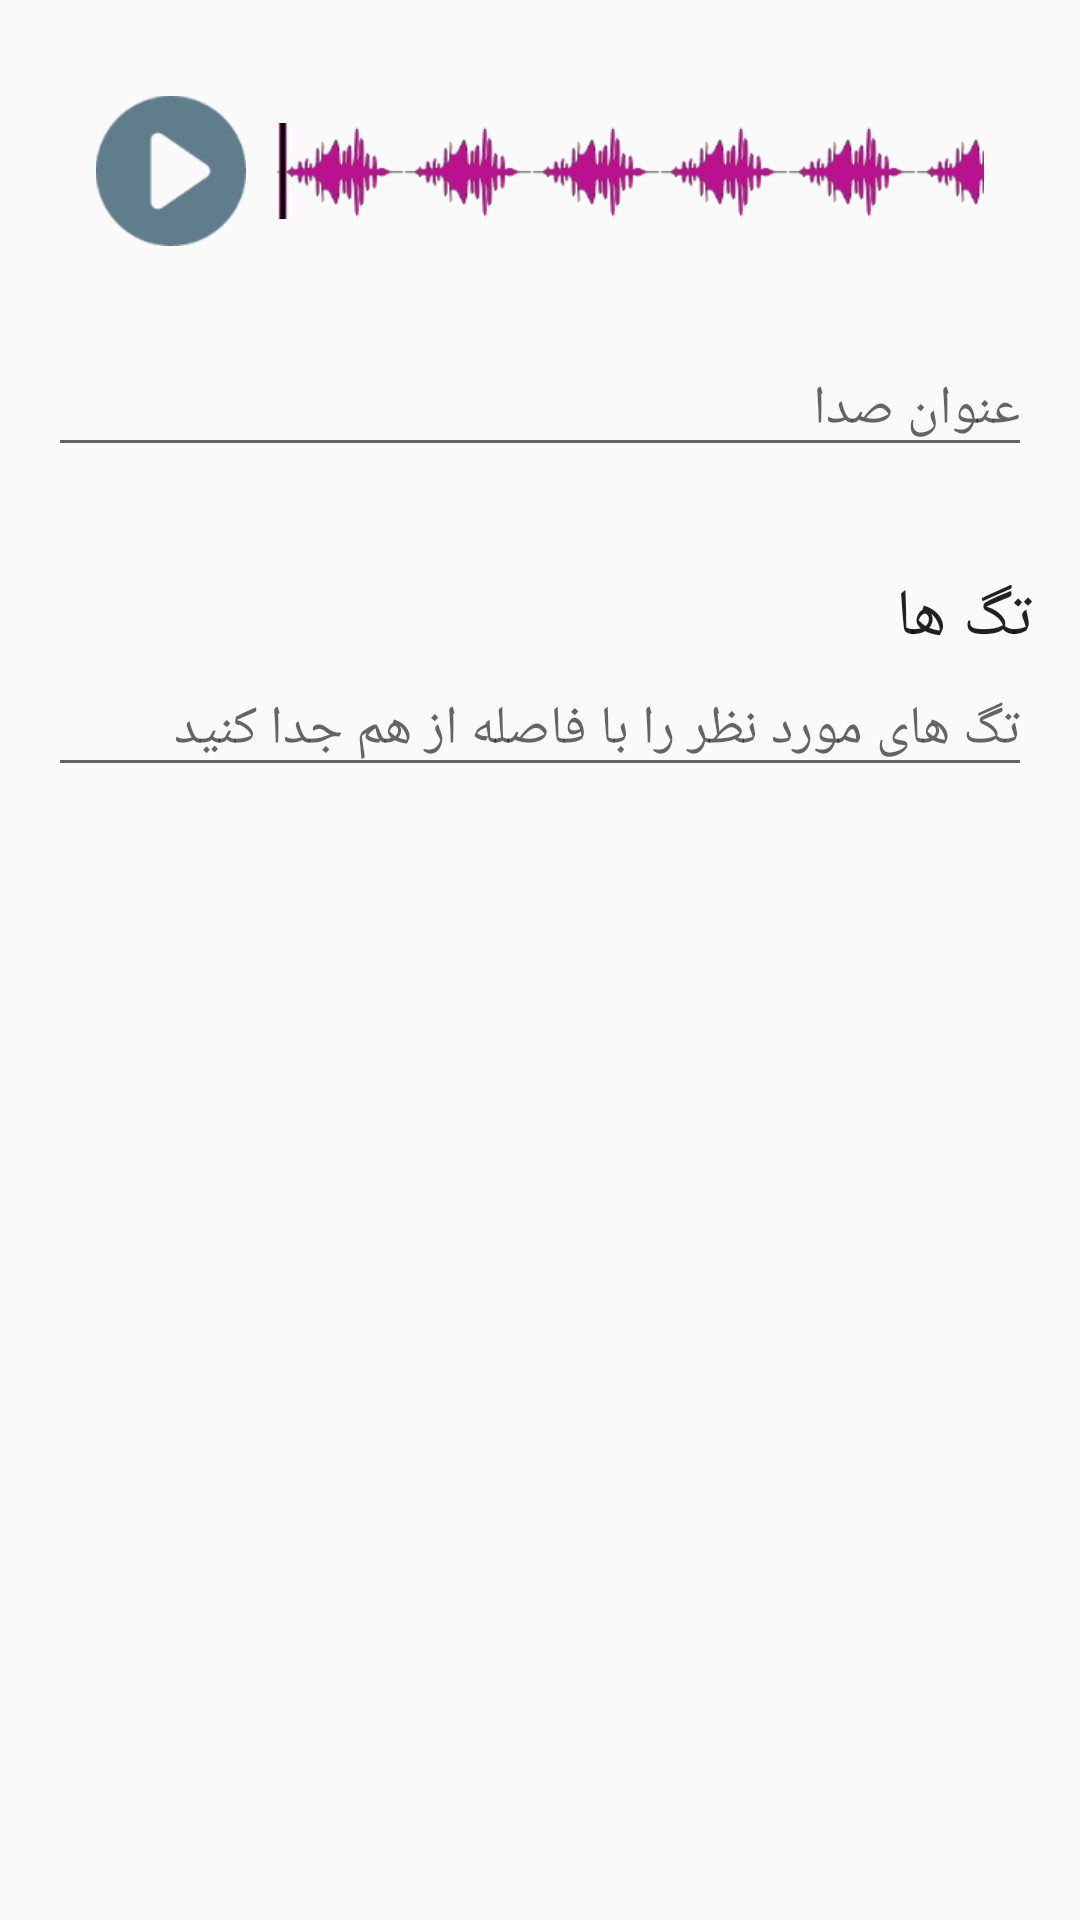

Where to tap for icons on this 1080*1920 app screen, as point (x, y):
play: point (171, 171)
